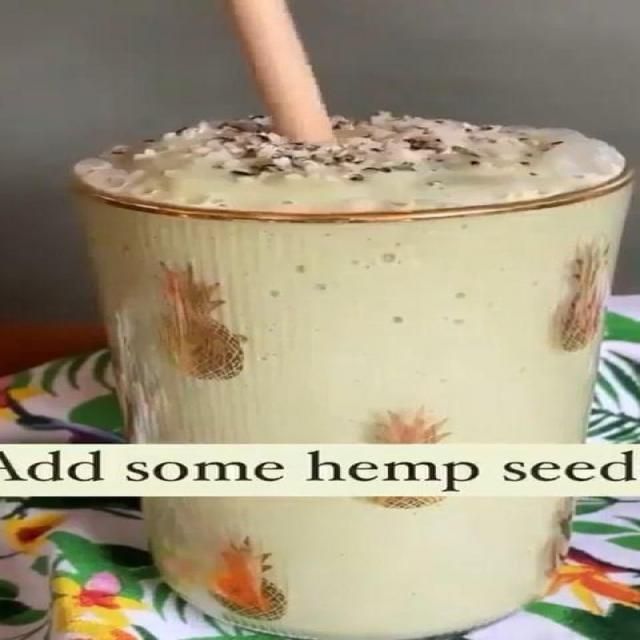glass-normal: (70, 108, 640, 640)
